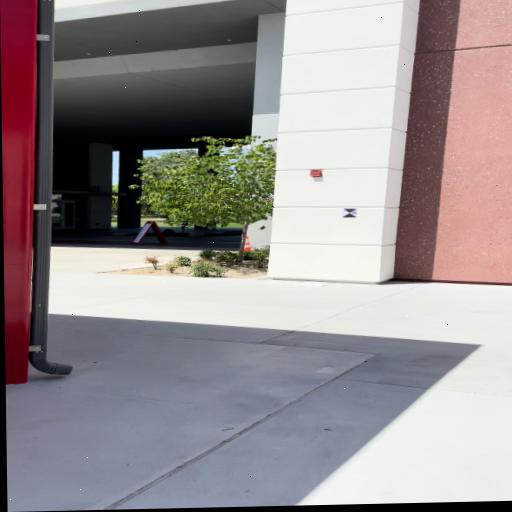target6: (342, 208, 358, 218)
